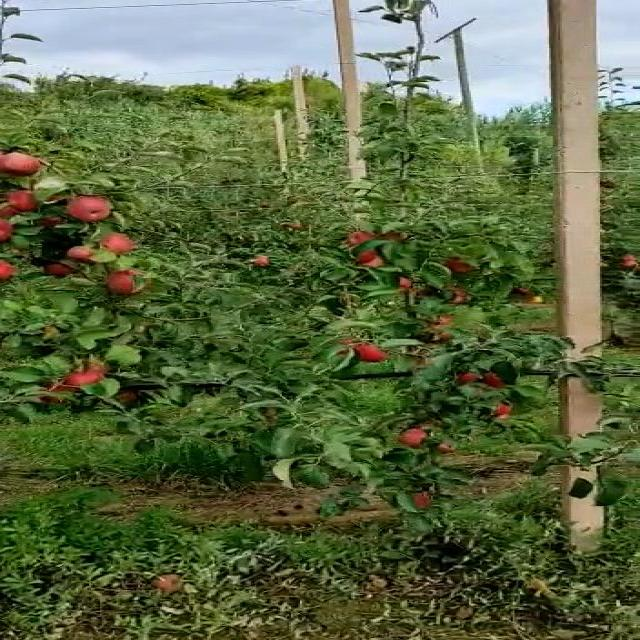100-_ripeness: (66, 196, 126, 222), (342, 338, 400, 364), (102, 267, 156, 294), (98, 226, 140, 260), (387, 486, 438, 513), (55, 364, 109, 385), (2, 149, 38, 179), (4, 191, 54, 210), (60, 241, 107, 261), (391, 424, 424, 451), (489, 363, 518, 391), (349, 224, 386, 245), (46, 260, 89, 278), (353, 250, 389, 264)
